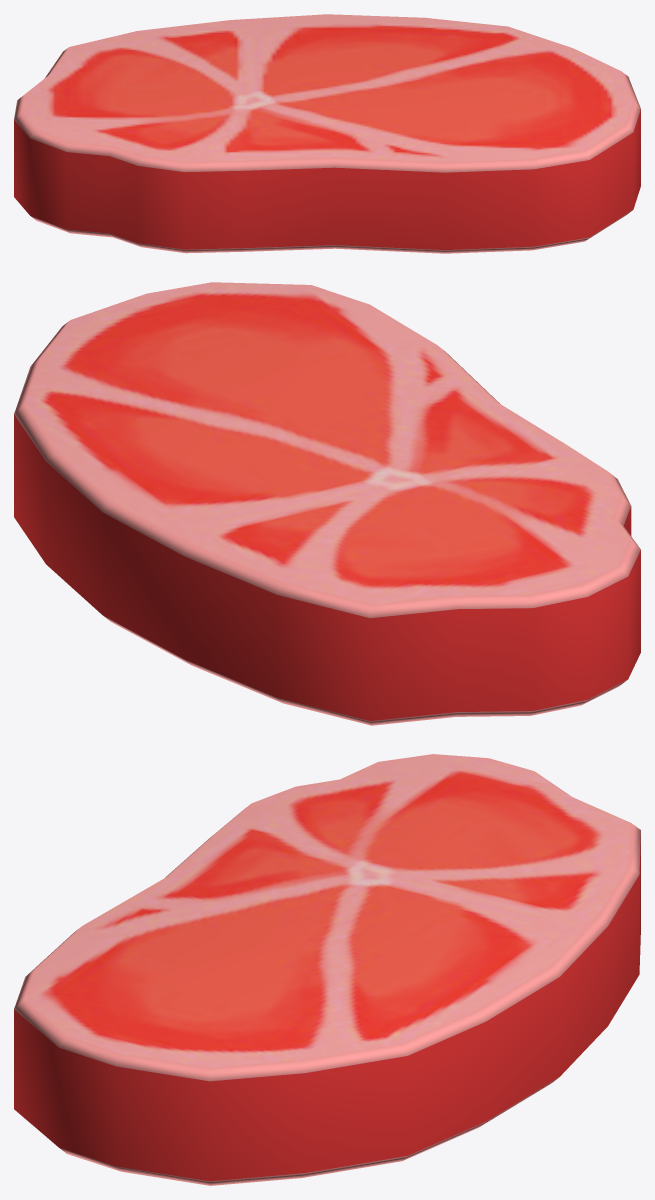
The picture shows the model from 3 angles, top to bottom: view 1: azimuth 30°, elevation 25°; view 2: azimuth 150°, elevation 25°; view 3: azimuth 270°, elevation 25°; orthographic projection. The views are drawn at different scales.
Parts seen in each view (by area): view 1: dingmian, cemian; view 2: dingmian, cemian; view 3: dingmian, cemian.
Boxes of the visible parts, box(x1,y1,x2,y2) form: dingmian: box(21, 14, 633, 162); cemian: box(14, 47, 640, 253); dingmian: box(24, 282, 630, 604); cemian: box(14, 320, 640, 725); dingmian: box(24, 754, 631, 1068); cemian: box(14, 807, 640, 1185).
Bounding box in the file's own units: 3.17 × 0.5385 × 2.6.
